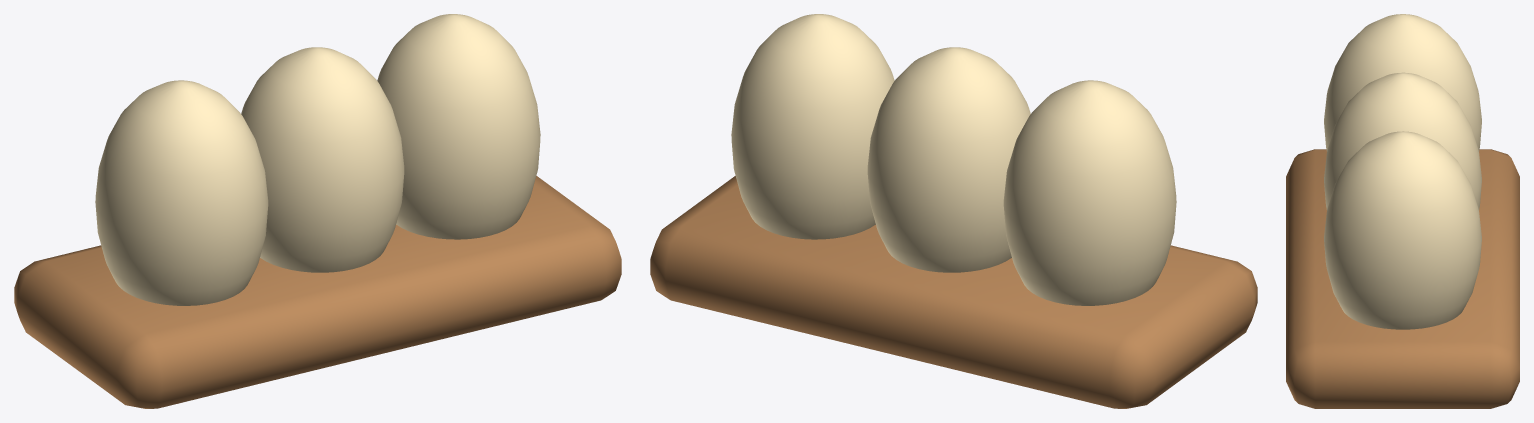
Rendered from goods_egg.glb.
3 renders of one model, left to right at view 1: azimuth 30°, elevation 25°; view 2: azimuth 150°, elevation 25°; view 3: azimuth 270°, elevation 25°, orthographic. The views are drawn at different scales.
Parts seen in each view (by area): view 1: goods_egg_crafted_mesh; view 2: goods_egg_crafted_mesh; view 3: goods_egg_crafted_mesh.
Part boxes in pixels (box(x1,y1,x2,y2)): goods_egg_crafted_mesh: box(14, 14, 621, 408); goods_egg_crafted_mesh: box(650, 14, 1257, 408); goods_egg_crafted_mesh: box(1286, 14, 1519, 408).
Bounding box in the file's own units: 0.7 × 0.3593 × 0.32.
